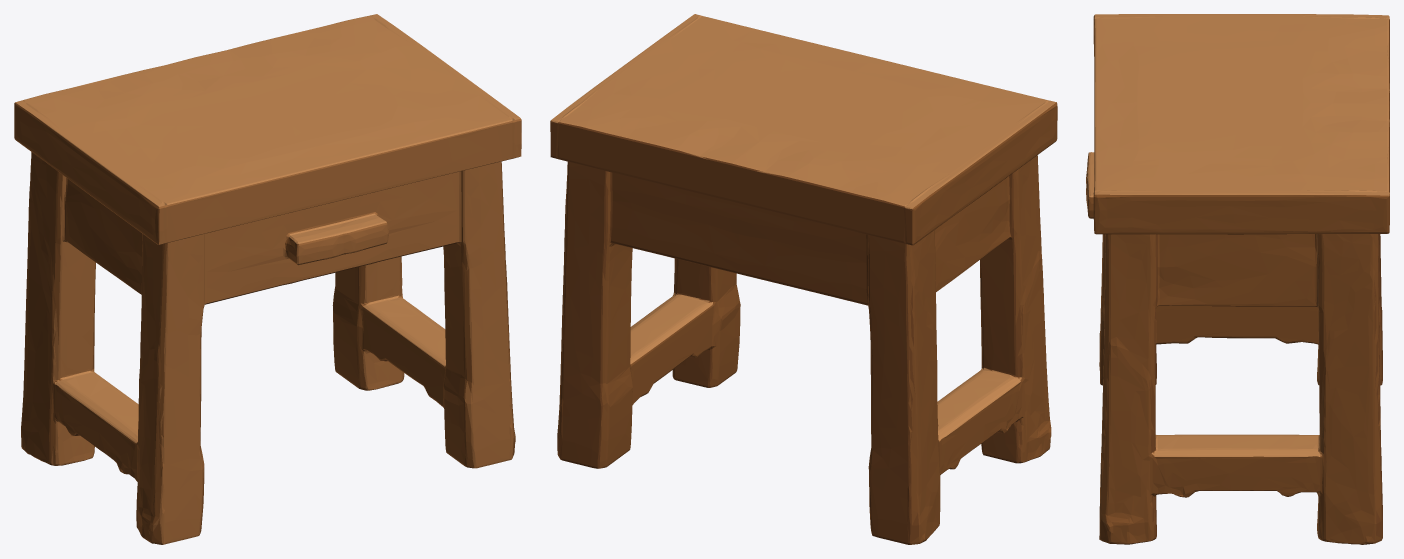
3 renders of one model, left to right at view 1: azimuth 30°, elevation 25°; view 2: azimuth 150°, elevation 25°; view 3: azimuth 270°, elevation 25°, orthographic. The views are drawn at different scales.
Visible parts, largest first — view 1: nightstand; view 2: nightstand; view 3: nightstand.
Boxes of the visible parts, x1=… form: nightstand: x1=14, y1=14, x2=521, y2=544; nightstand: x1=550, y1=14, x2=1057, y2=544; nightstand: x1=1086, y1=14, x2=1389, y2=544.
Size of the model in its own units: 0.61 by 0.5499 by 0.43.
